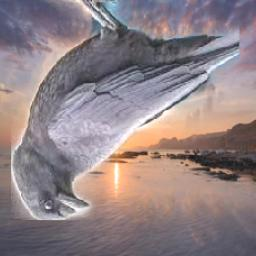Crow: (11, 0, 239, 221)
